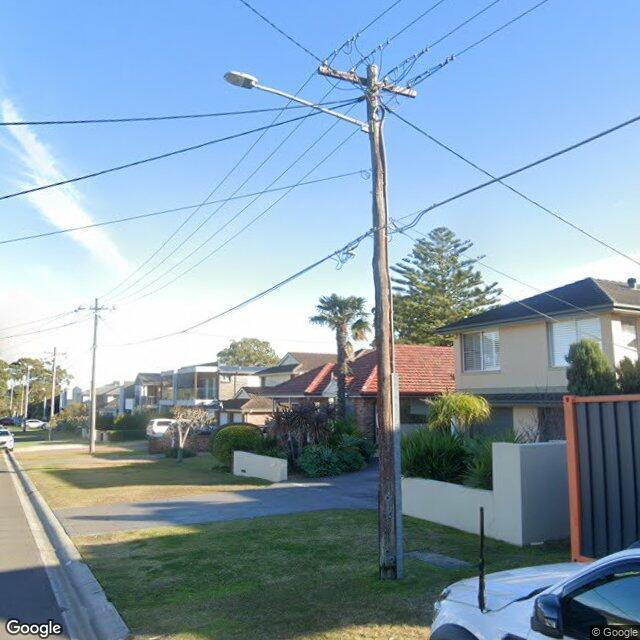crossarm: (319, 64, 417, 100), (78, 306, 116, 312), (44, 351, 67, 356)
streetlight: (222, 70, 374, 132)
timber-pole: (367, 65, 402, 577), (90, 298, 98, 454), (51, 347, 57, 415)
